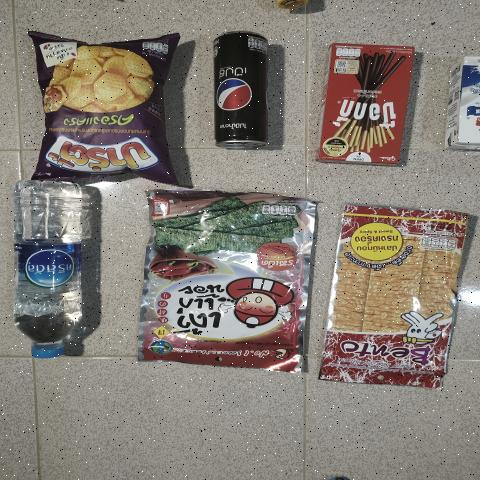bento_red: (314, 212, 465, 383)
crystal: (7, 175, 102, 368)
party_purple: (49, 33, 162, 178)
pepsi_black: (209, 27, 266, 155)
pokki: (324, 46, 406, 166)
taokaenoi: (143, 198, 295, 364)
